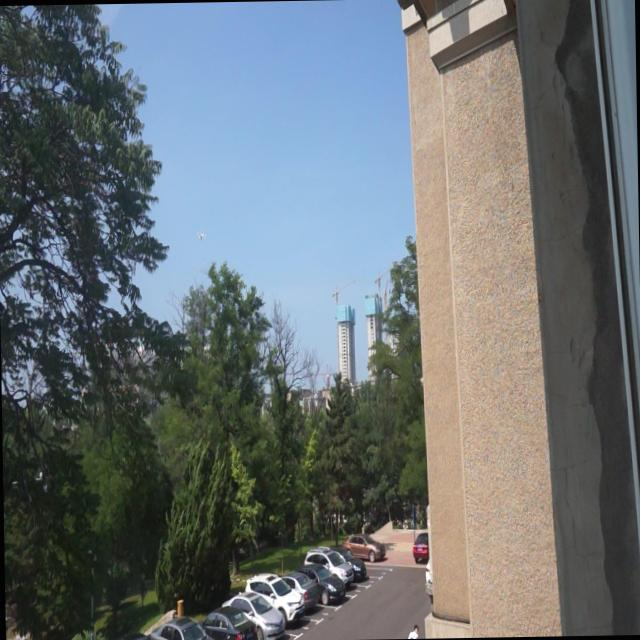drone: (194, 226, 208, 246)
